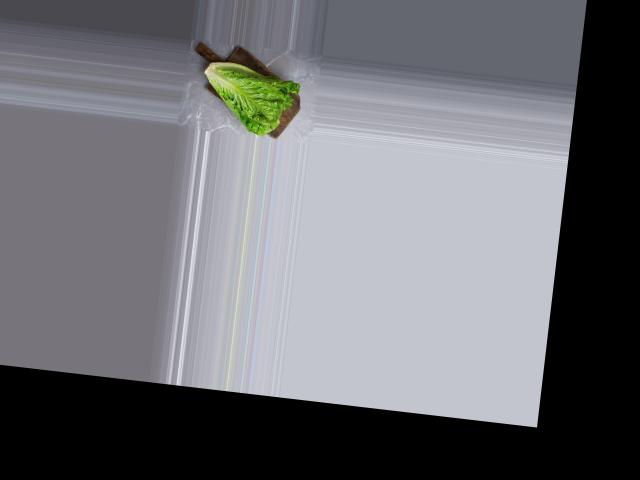lettuce: (193, 48, 302, 138)
